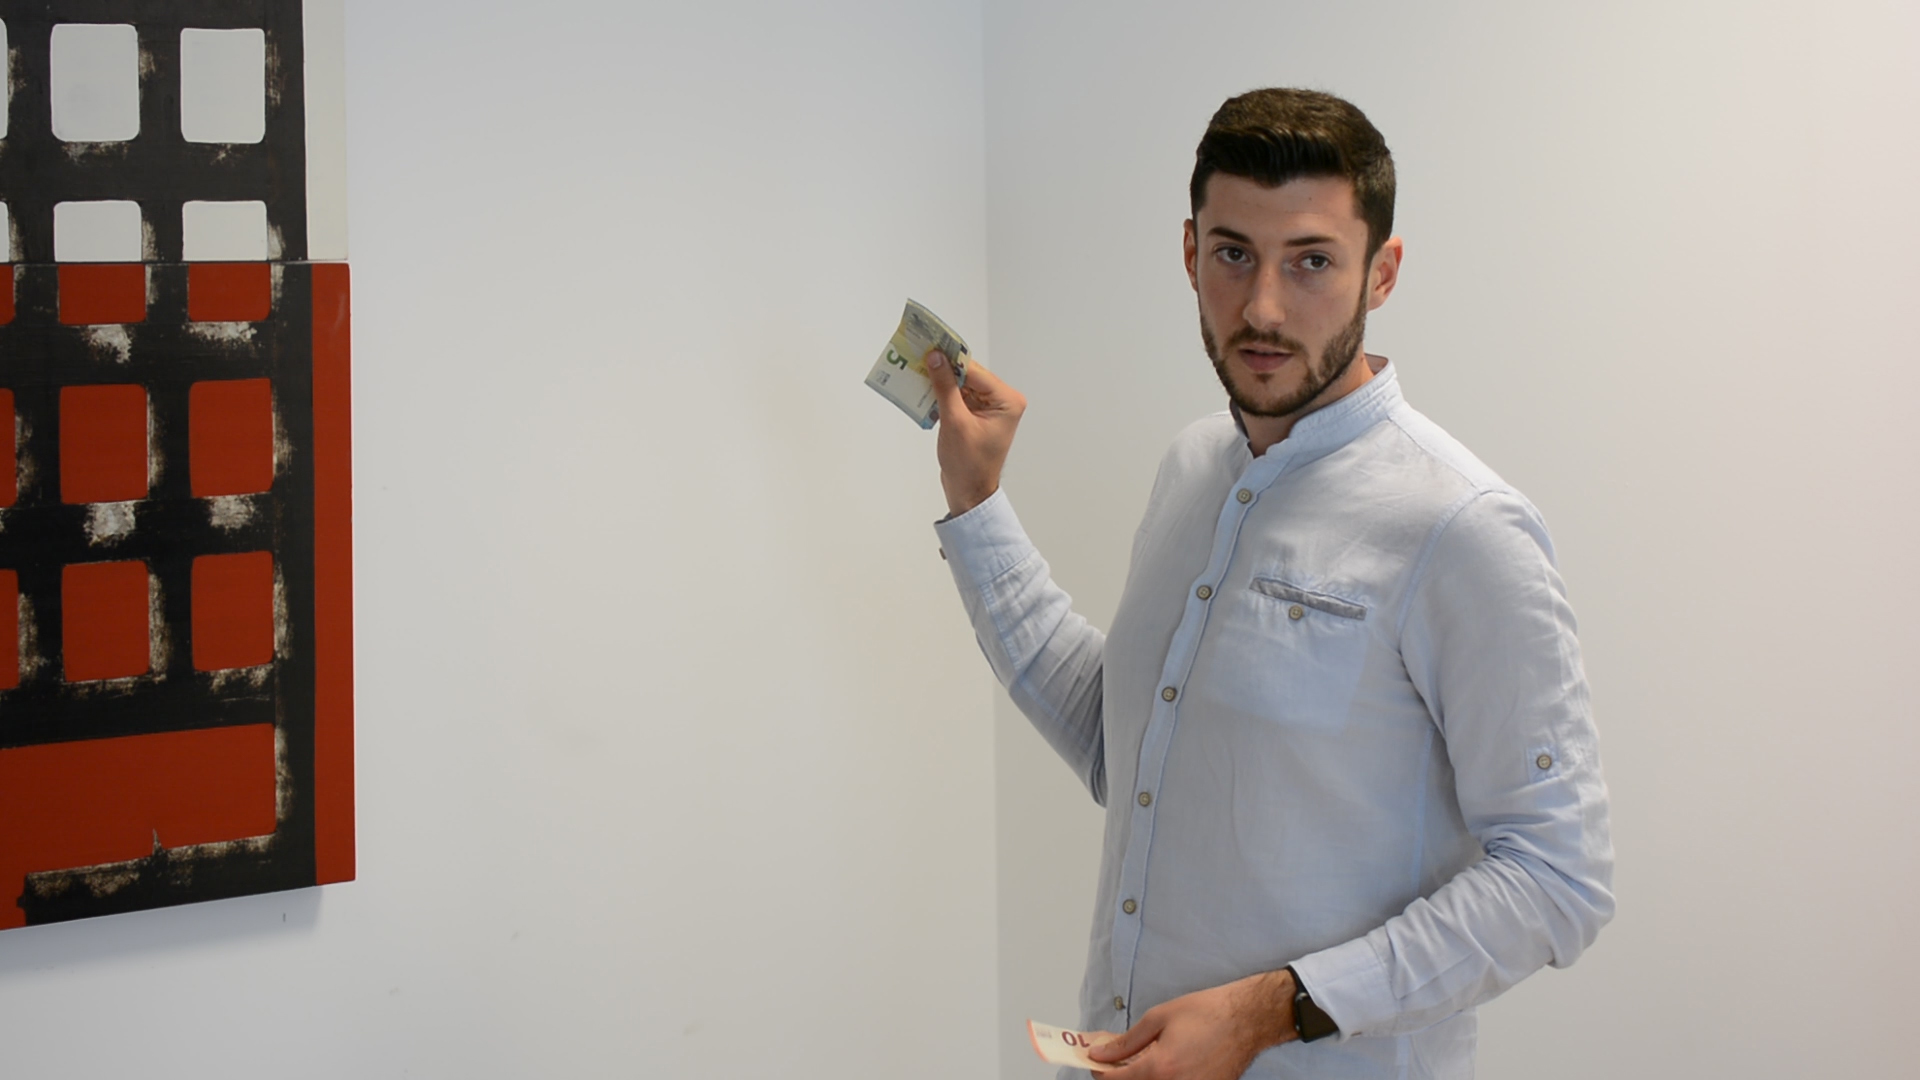billete: (864, 298, 971, 431), (1029, 1019, 1166, 1073)
